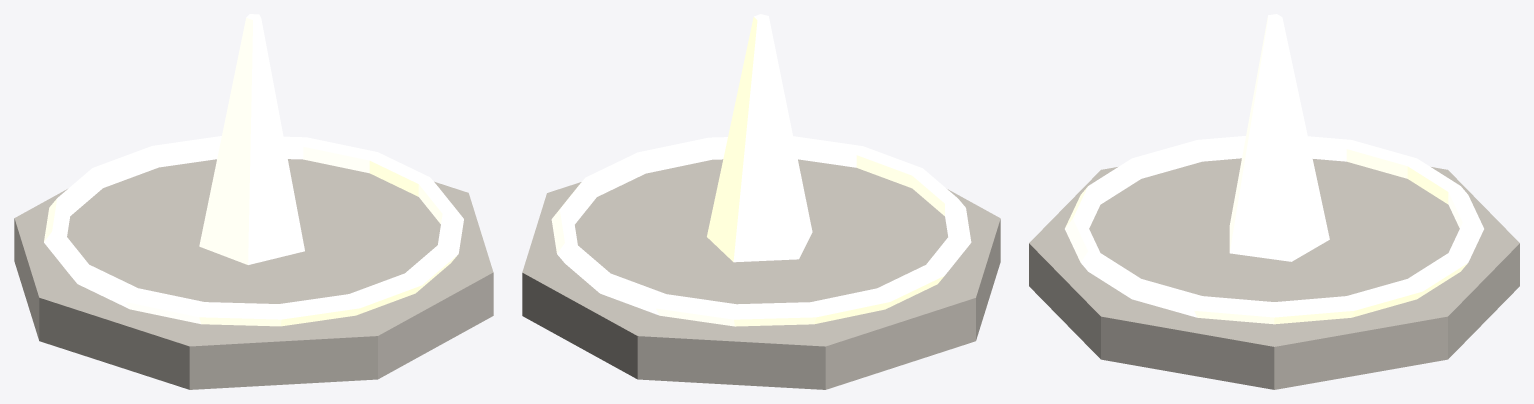
Rendered from shrine.glb.
The picture shows the model from 3 angles, left to right: view 1: azimuth 30°, elevation 25°; view 2: azimuth 150°, elevation 25°; view 3: azimuth 270°, elevation 25°; orthographic projection.
Visible parts, largest first — view 1: dais, glow.001, glow; view 2: dais, glow.001, glow; view 3: dais, glow.001, glow.
Part boxes in pixels (x1,y1,x2,y2): dais: (14, 159, 493, 389); glow.001: (44, 136, 463, 326); glow: (199, 14, 304, 264); dais: (522, 159, 1000, 389); glow.001: (551, 136, 971, 326); glow: (707, 14, 812, 262); dais: (1029, 158, 1519, 389); glow.001: (1065, 136, 1483, 324); glow: (1229, 14, 1329, 261).
Bounding box in the file's own units: 1.24 × 0.75 × 1.24.
